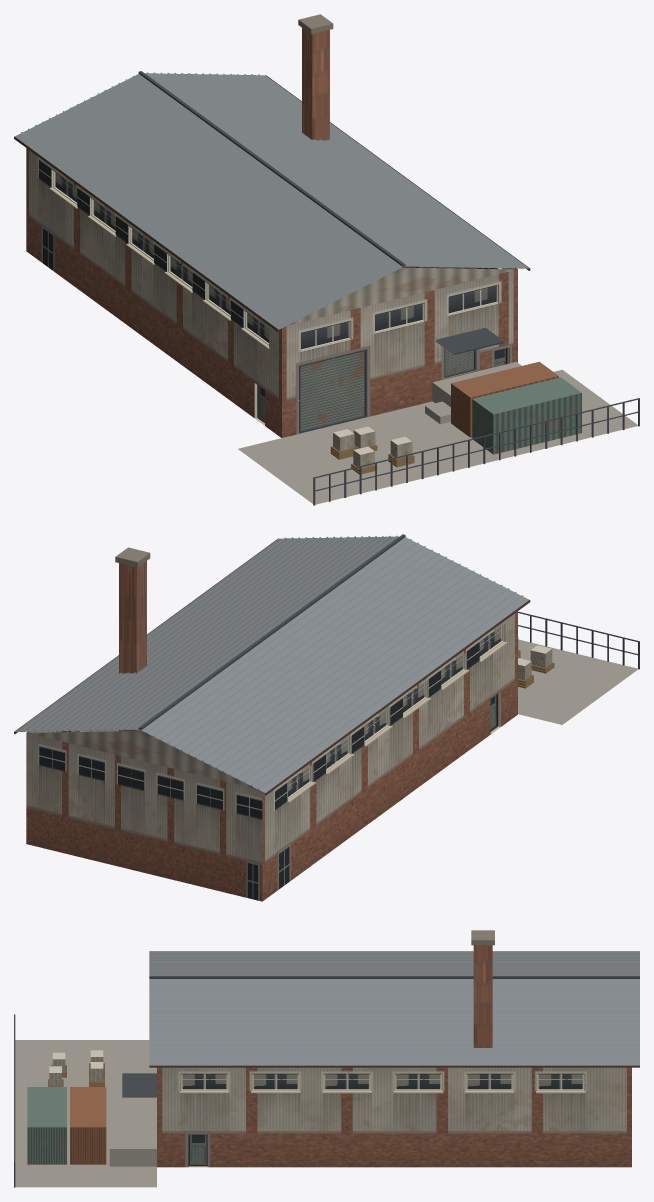
The model's file is hero_industrial_a.glb.
3 views of the same model, one above another, from view 1: azimuth 30°, elevation 25°; view 2: azimuth 150°, elevation 25°; view 3: azimuth 270°, elevation 25° (orthographic). The views are drawn at different scales.
Visible parts, largest first — view 1: bld_hero_industrial_a; view 2: bld_hero_industrial_a; view 3: bld_hero_industrial_a.
Part boxes in pixels (x1,y1,x2,y2): bld_hero_industrial_a: (14,14,639,505); bld_hero_industrial_a: (14,534,639,901); bld_hero_industrial_a: (14,930,639,1187).
Bounding box in the file's own units: 22.08 × 15.35 × 39.54.
1 material, 1 textured.
